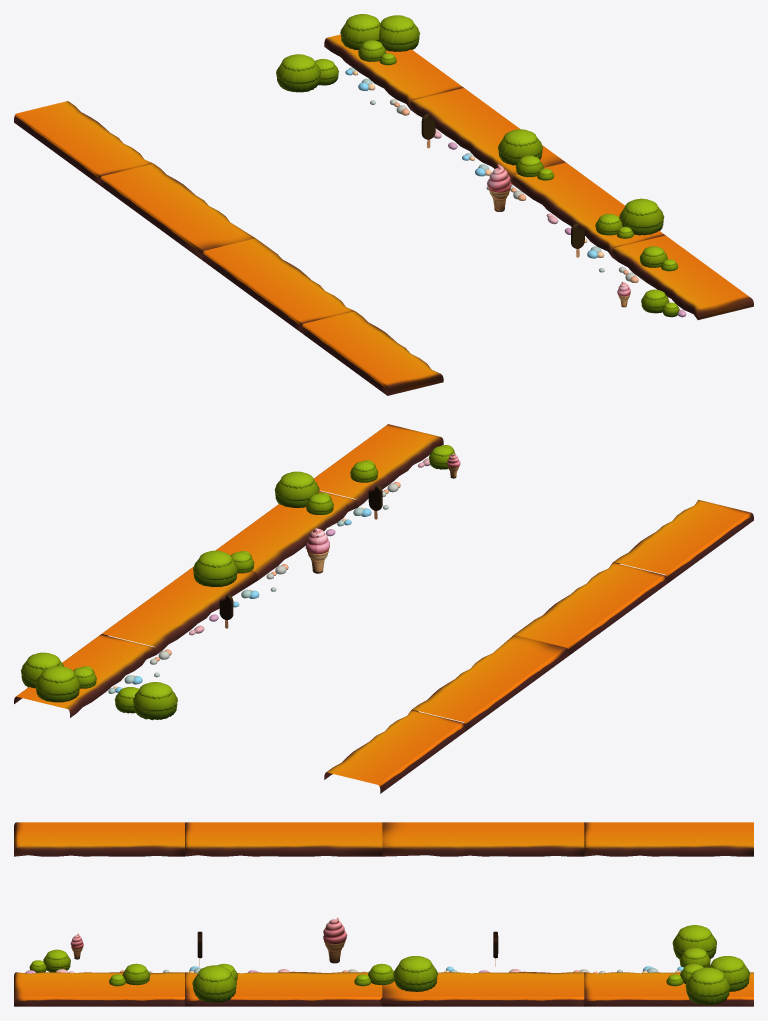
File: START_POINT_OBJECTS.fbx
The picture shows the model from 3 angles, top to bottom: view 1: azimuth 30°, elevation 25°; view 2: azimuth 150°, elevation 25°; view 3: azimuth 270°, elevation 25°; orthographic projection.
Parts seen in each view (by area): view 1: pPlane10.001, pPlane10.002, pPlane10.003, pPlane10.004, 1, Bush_Bush_0.014, Bush_Bush_0.006, Bush_Bush_0.013, Bush_Bush_0.009, Bush_Bush_0.012, IceCream_IceCream_0.002; view 2: pPlane10.002, pPlane10.001, pPlane10.003, pPlane10.004, 1, Bush_Bush_0.014, Bush_Bush_0.012, Bush_Bush_0.009, Bush_Bush_0.006, Bush_Bush_0.013, IceCream_IceCream_0.002; view 3: pPlane10.002, pPlane10.001, pPlane10.003, pPlane10.004, Bush_Bush_0.013, Bush_Bush_0.006, Bush_Bush_0.009, Bush_Bush_0.014, Bush_Bush_0.012, IceCream_IceCream_0.002, 1, Bush_Bush_0.001 (+3 smaller).
Boxes of the visible parts, x1,y1,x2,y2 form: pPlane10.001: (203, 238, 443, 395); pPlane10.002: (14, 101, 255, 260); pPlane10.003: (512, 162, 753, 319); pPlane10.004: (324, 34, 565, 183); 1: (345, 67, 686, 317); Bush_Bush_0.014: (276, 54, 321, 92); Bush_Bush_0.006: (619, 198, 664, 235); Bush_Bush_0.013: (379, 15, 419, 51); Bush_Bush_0.009: (498, 129, 542, 165); Bush_Bush_0.012: (340, 14, 380, 49); IceCream_IceCream_0.002: (487, 164, 511, 211); pPlane10.002: (324, 635, 569, 793); pPlane10.001: (514, 500, 753, 655); pPlane10.003: (215, 424, 443, 580); pPlane10.004: (14, 566, 257, 717); 1: (108, 458, 430, 693); Bush_Bush_0.014: (133, 682, 177, 720); Bush_Bush_0.012: (35, 666, 80, 702); Bush_Bush_0.009: (193, 550, 237, 586); Bush_Bush_0.006: (274, 471, 319, 507); Bush_Bush_0.013: (21, 652, 63, 688); IceCream_IceCream_0.002: (306, 528, 329, 573); pPlane10.002: (382, 822, 753, 856); pPlane10.001: (14, 822, 382, 856); pPlane10.003: (14, 972, 382, 1006); pPlane10.004: (379, 972, 753, 1006); Bush_Bush_0.013: (685, 967, 730, 1005); Bush_Bush_0.006: (192, 965, 236, 1002); Bush_Bush_0.009: (393, 956, 437, 991); Bush_Bush_0.014: (672, 925, 716, 959); Bush_Bush_0.012: (709, 956, 749, 991); IceCream_IceCream_0.002: (323, 917, 347, 963); 1: (25, 966, 683, 973); Bush_Bush_0.001: (43, 949, 70, 972).
Bounding box in the file's own units: 9378 × 1179 × 15980.
Materials: 8 (5 with a texture image).
